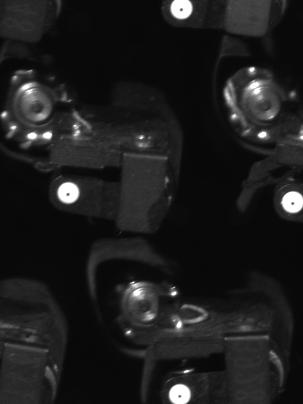fiber: (51, 178, 88, 209), (161, 379, 201, 404), (278, 183, 303, 222), (166, 1, 199, 27)
